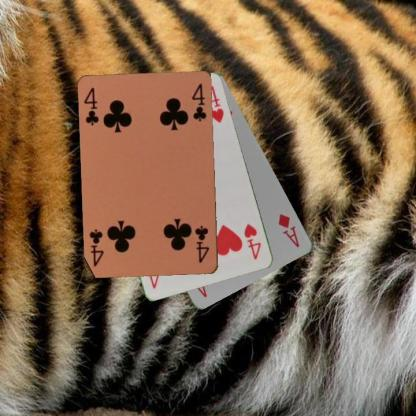4c: (192, 223, 211, 265), (81, 85, 100, 126)
4h: (241, 221, 263, 261)
Ad: (276, 211, 301, 248)
